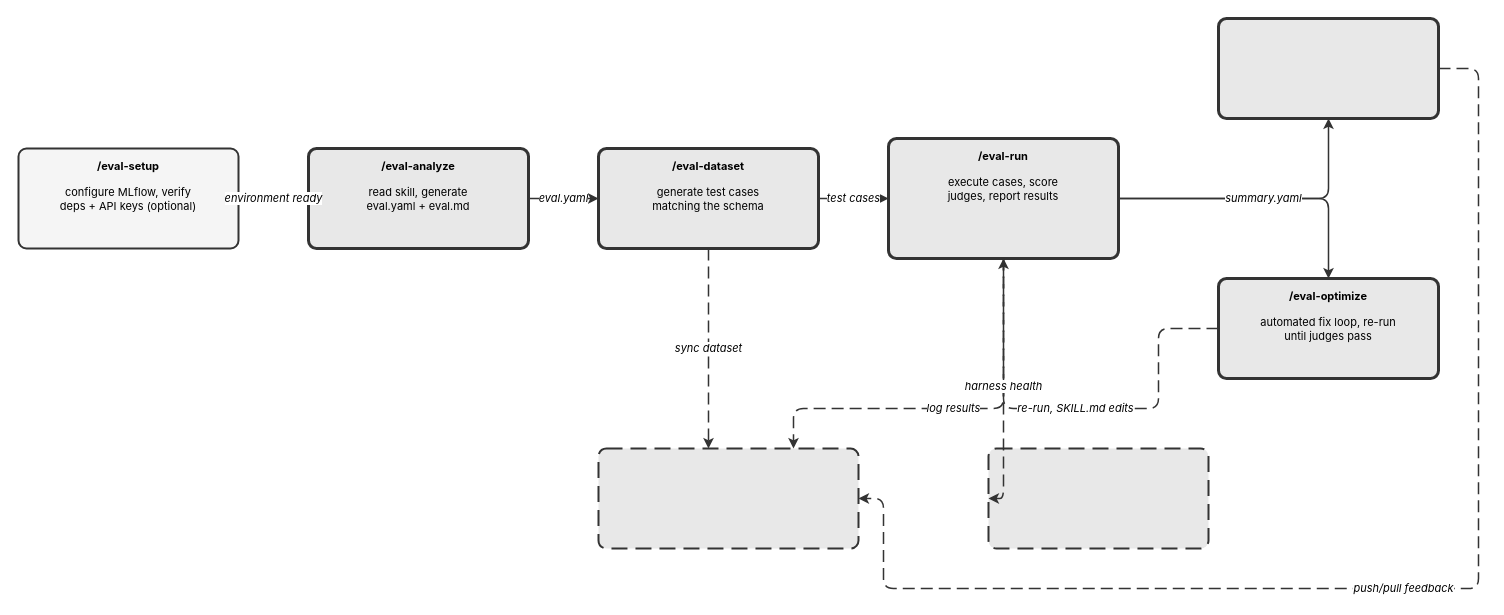
Image size: 1504x615. Some labels were removed from this diagram. Each missing label, with the box of its shape:
/eval-check harness health check: overlap, redundancy: (987, 447, 1209, 549)
/eval-mlflow sync datasets, log runs, push/pull trace feedback: (597, 447, 859, 549)
/eval-review human-in-the-loop review, propose SKILL.md edits: (1216, 16, 1440, 120)
